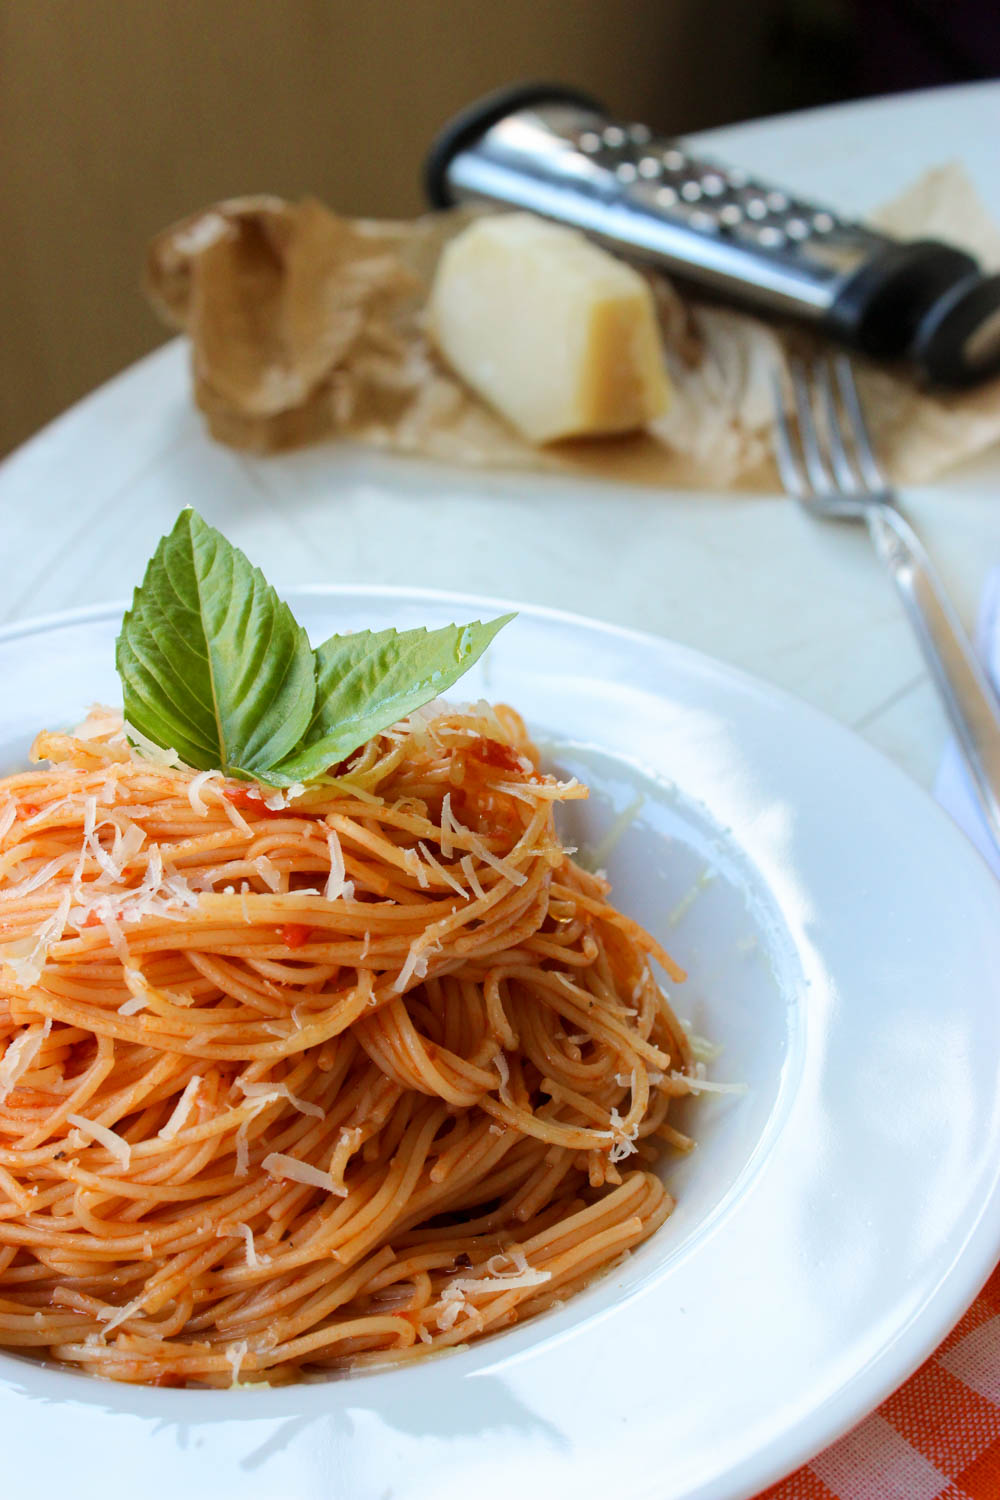plain spaghetti: (1, 714, 631, 1374)
